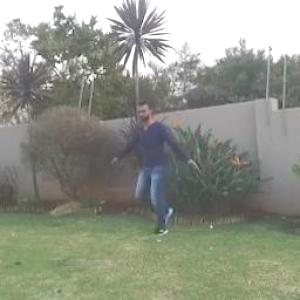land: (95, 84, 234, 255)
